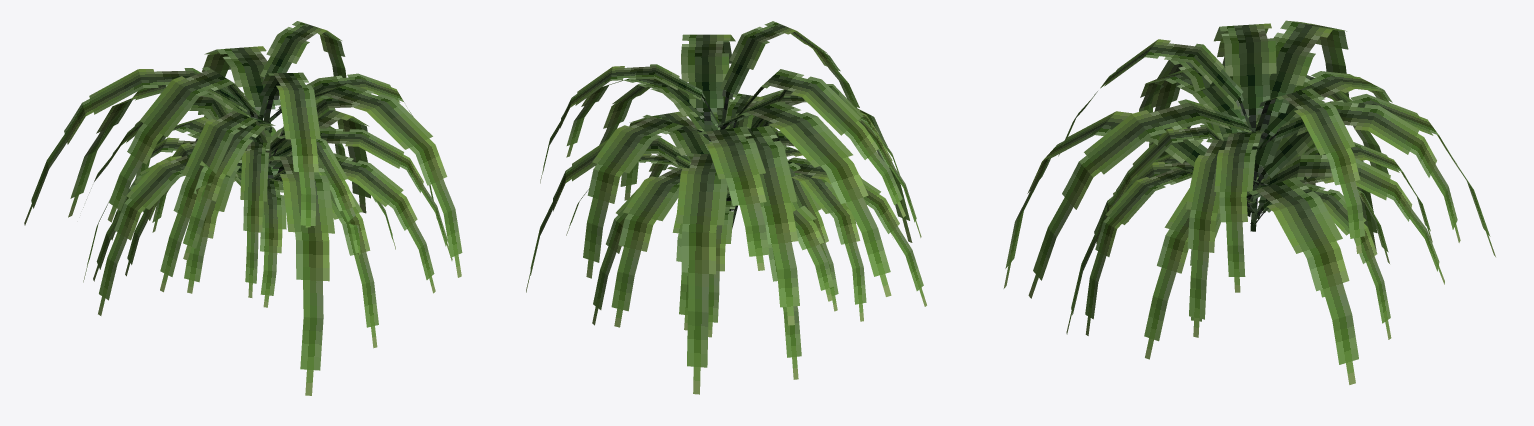
Rendered from spider-plant-bush-large.glb.
The picture shows the model from 3 angles, left to right: view 1: azimuth 30°, elevation 25°; view 2: azimuth 150°, elevation 25°; view 3: azimuth 270°, elevation 25°; orthographic projection. The views are drawn at different scales.
Visible parts, largest first — view 1: Fern Large.052; view 2: Fern Large.052; view 3: Fern Large.052.
Boxes of the visible parts, <box> form: Fern Large.052: <box>24,21,462,395</box>; Fern Large.052: <box>526,21,926,394</box>; Fern Large.052: <box>1003,20,1495,384</box>.
Size of the model in its own units: 1.51 by 0.9648 by 1.63.
Materials: 1 (1 with a texture image).
